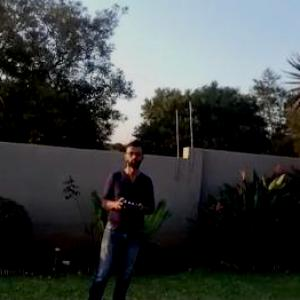follow: (84, 133, 162, 299)
